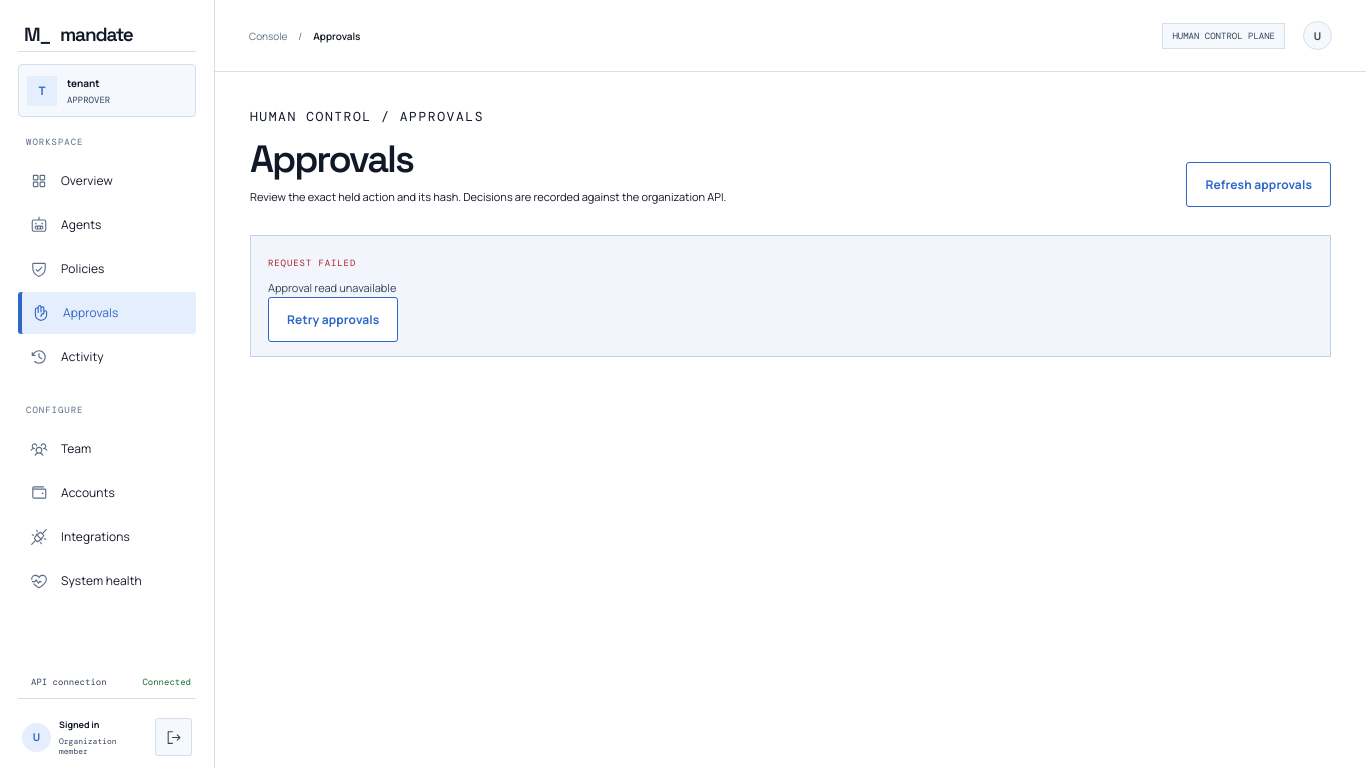
Test case: retries a failed approvals read without claiming there are no held actions
Step 1. Click the button "Retry approvals" → (333, 320), box [268,297,398,342]
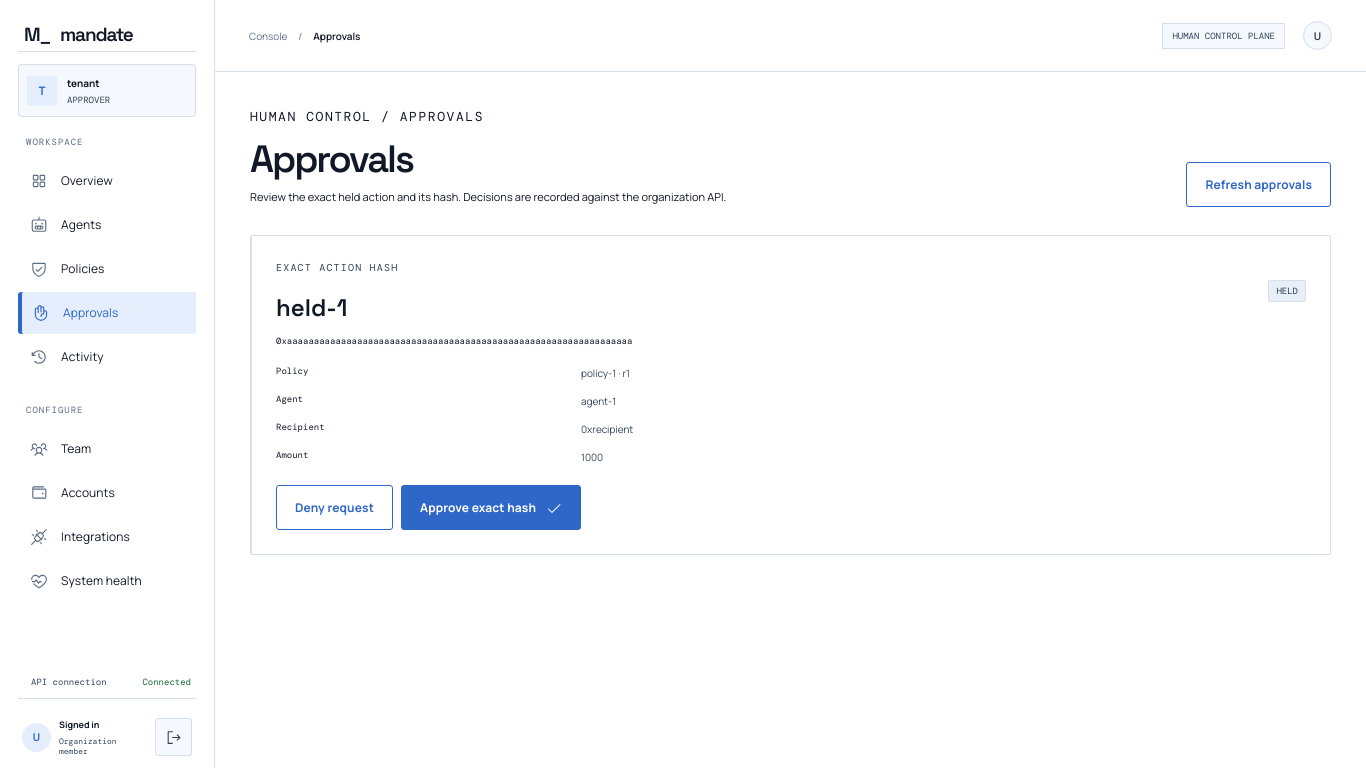
Result: the text "held-1" is shown at [276,292,348,323]
